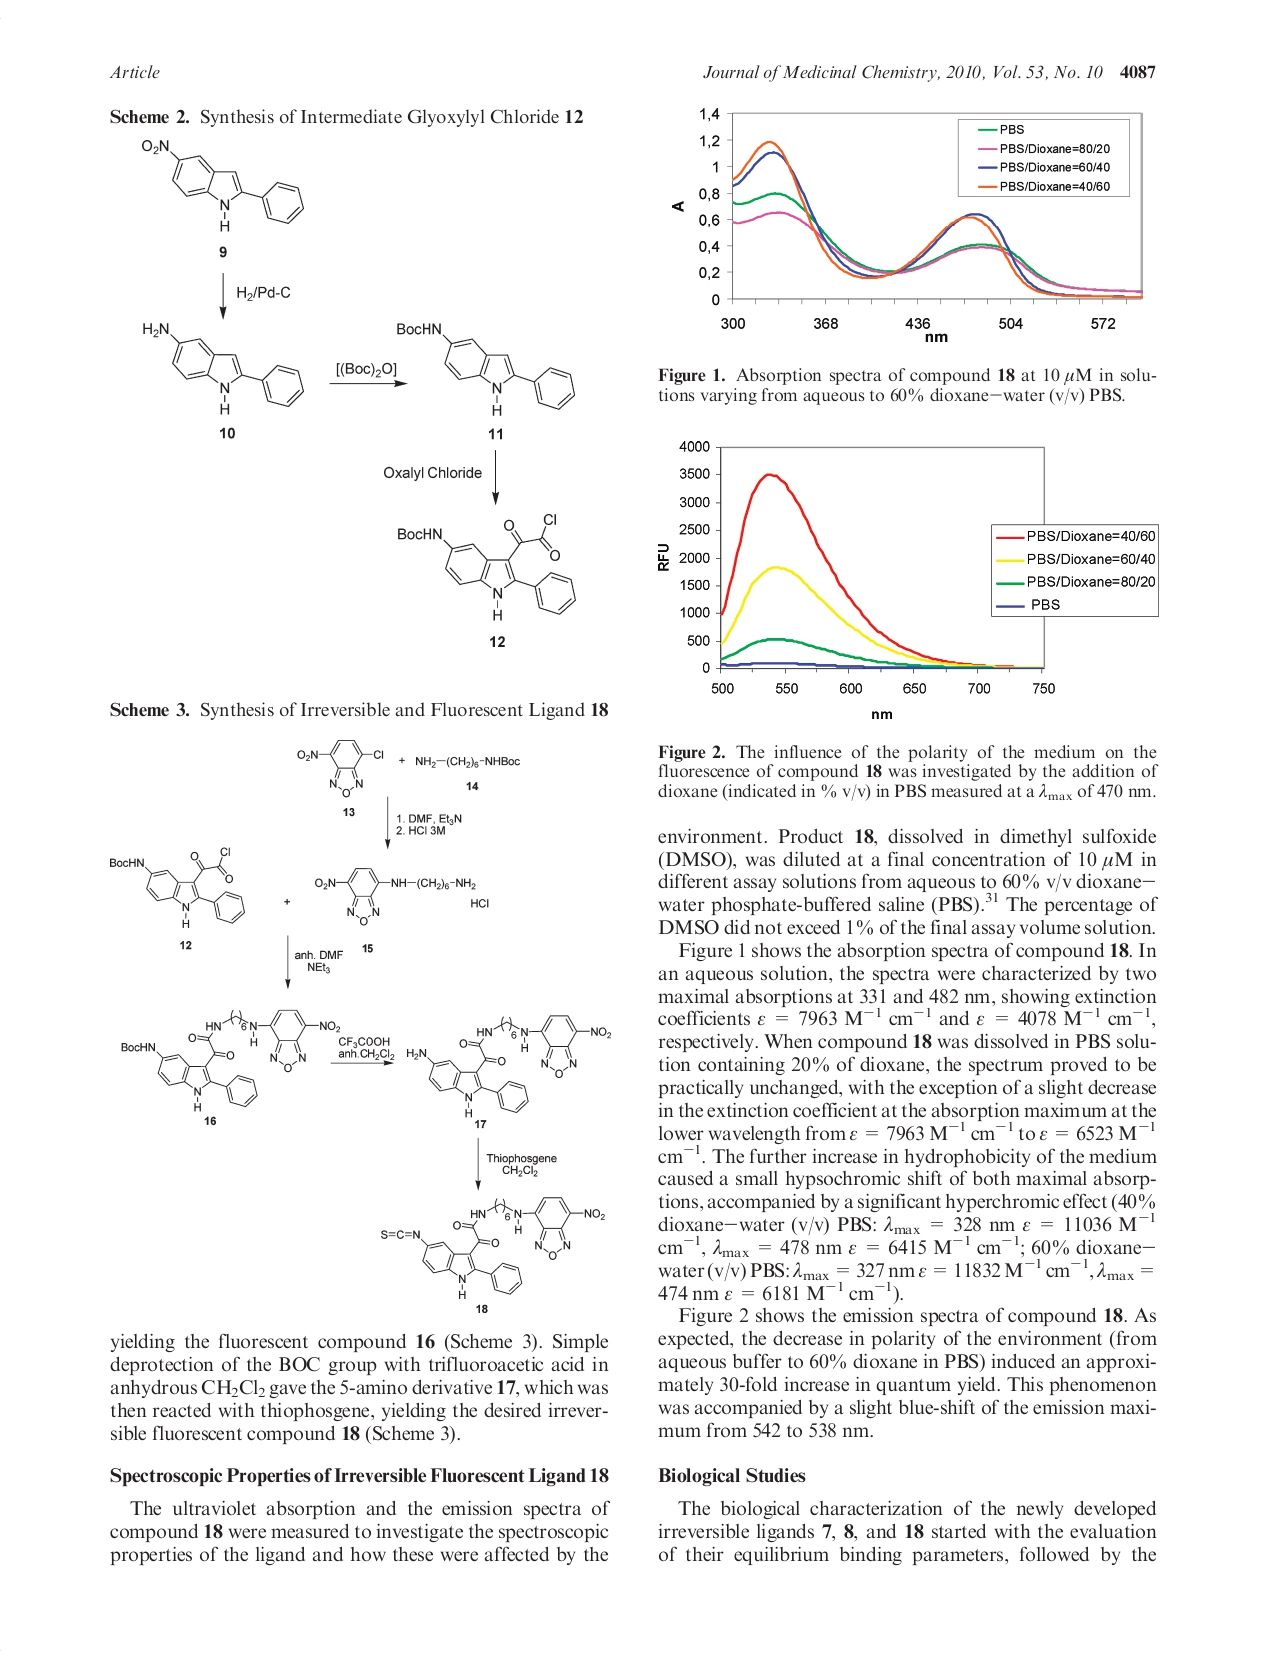exist_molecular: (120, 1001, 348, 1114), (376, 1196, 610, 1303), (394, 507, 582, 626), (402, 1012, 620, 1112), (394, 315, 582, 419), (137, 309, 311, 415), (136, 141, 309, 234), (108, 840, 251, 931), (311, 862, 493, 931), (293, 735, 390, 797)
